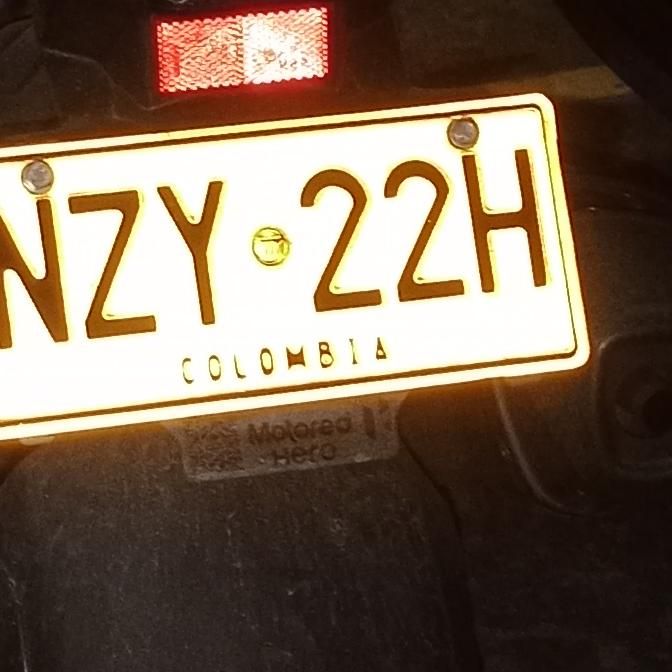plates: (0, 94, 590, 429)
